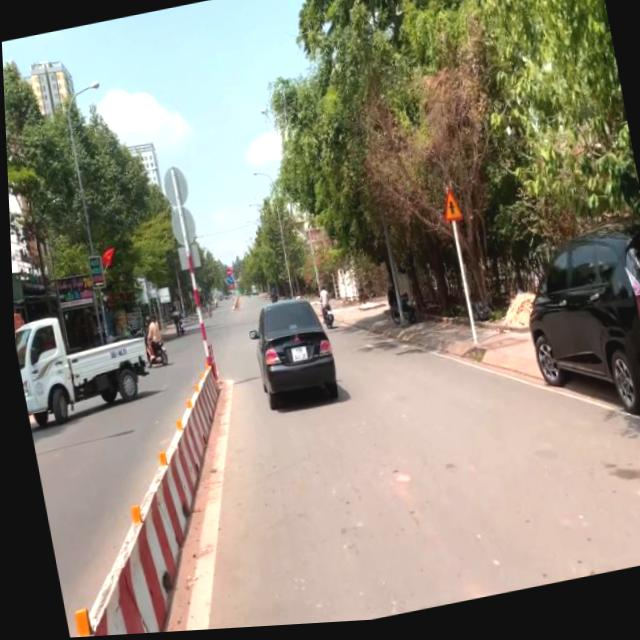Giao nhau voi duong khong uu tien: (437, 191, 463, 229)
